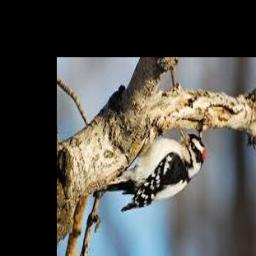Woodpecker: (100, 127, 205, 212)
